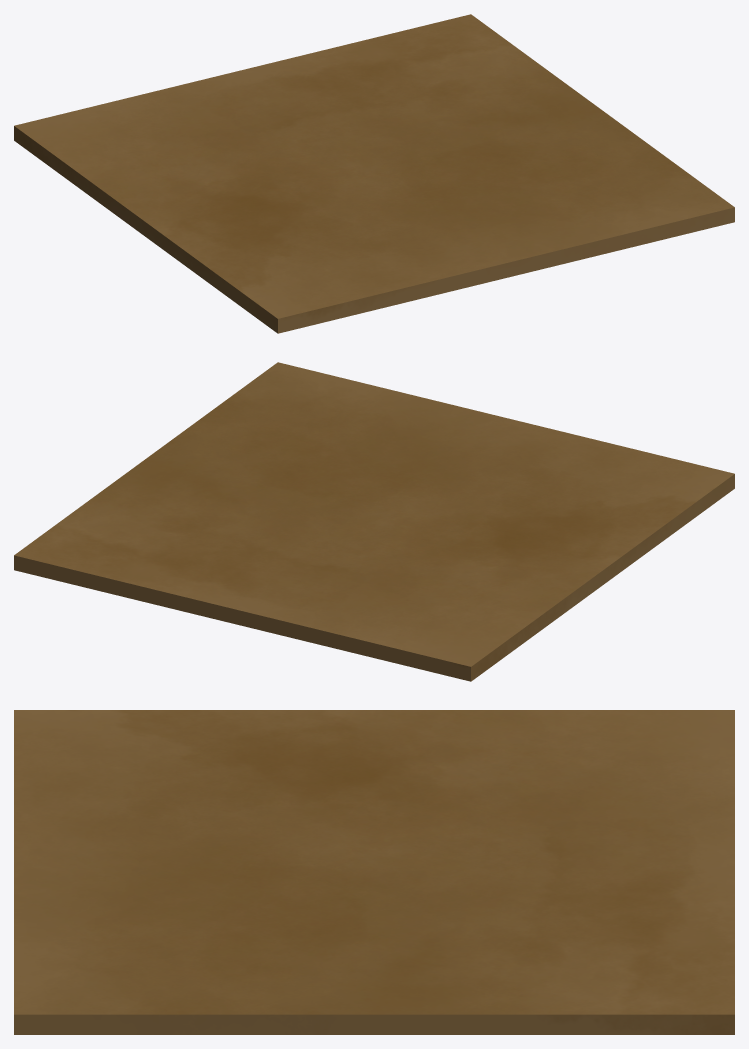
Rendered from Techo.fbx.
3 views of the same model, one above another, from view 1: azimuth 30°, elevation 25°; view 2: azimuth 150°, elevation 25°; view 3: azimuth 270°, elevation 25° (orthographic). The views are drawn at different scales.
Visible parts, largest first — view 1: Plano; view 2: Plano; view 3: Plano.
Part boxes in pixels (x1=…): Plano: x1=14, y1=14, x2=734, y2=333; Plano: x1=14, y1=362, x2=734, y2=681; Plano: x1=14, y1=710, x2=734, y2=1034.
Bounding box in the file's own units: 4780 × 179 × 4780.
Materials: 2 (1 with a texture image).
